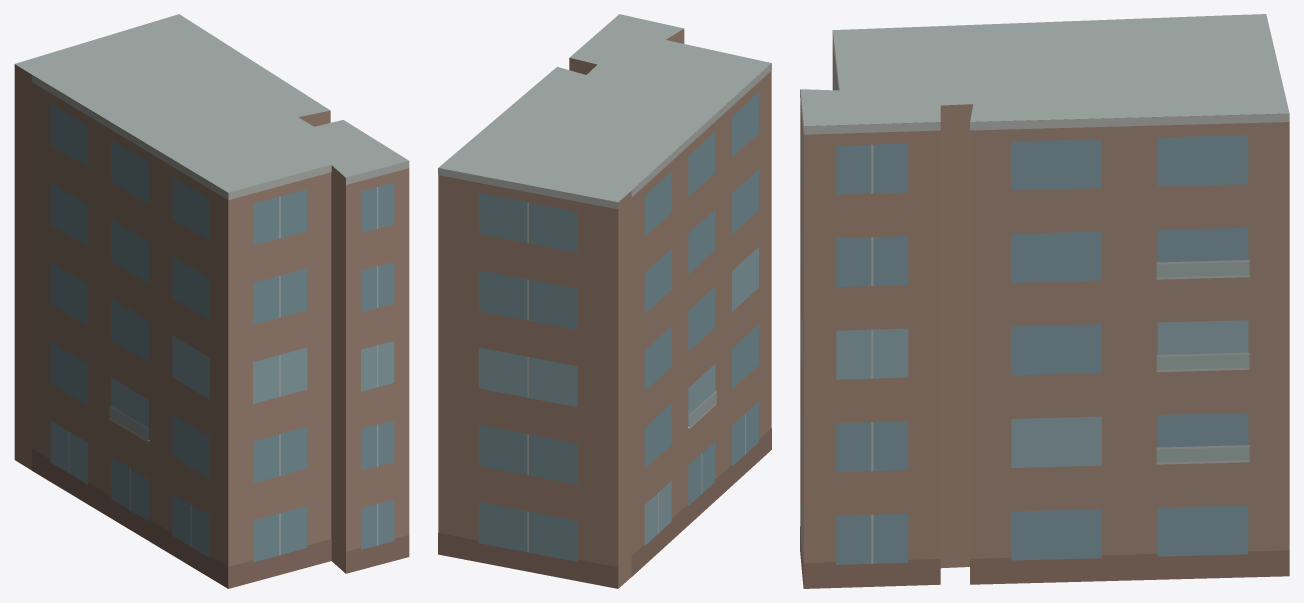
File: survey-upis-32904922.glb
3 views of the same model, side by side, from view 1: azimuth 30°, elevation 25°; view 2: azimuth 150°, elevation 25°; view 3: azimuth 270°, elevation 25° (orthographic). The views are drawn at different scales.
Visible parts, largest first — view 1: survey-upis-32904922.tmp; view 2: survey-upis-32904922.tmp; view 3: survey-upis-32904922.tmp.
Boxes of the visible parts, bbox=[...] form: survey-upis-32904922.tmp: bbox=[14, 14, 409, 588]; survey-upis-32904922.tmp: bbox=[438, 14, 771, 588]; survey-upis-32904922.tmp: bbox=[800, 14, 1289, 588].
Bounding box in the file's own units: 6.87 × 13.2 × 12.66.
